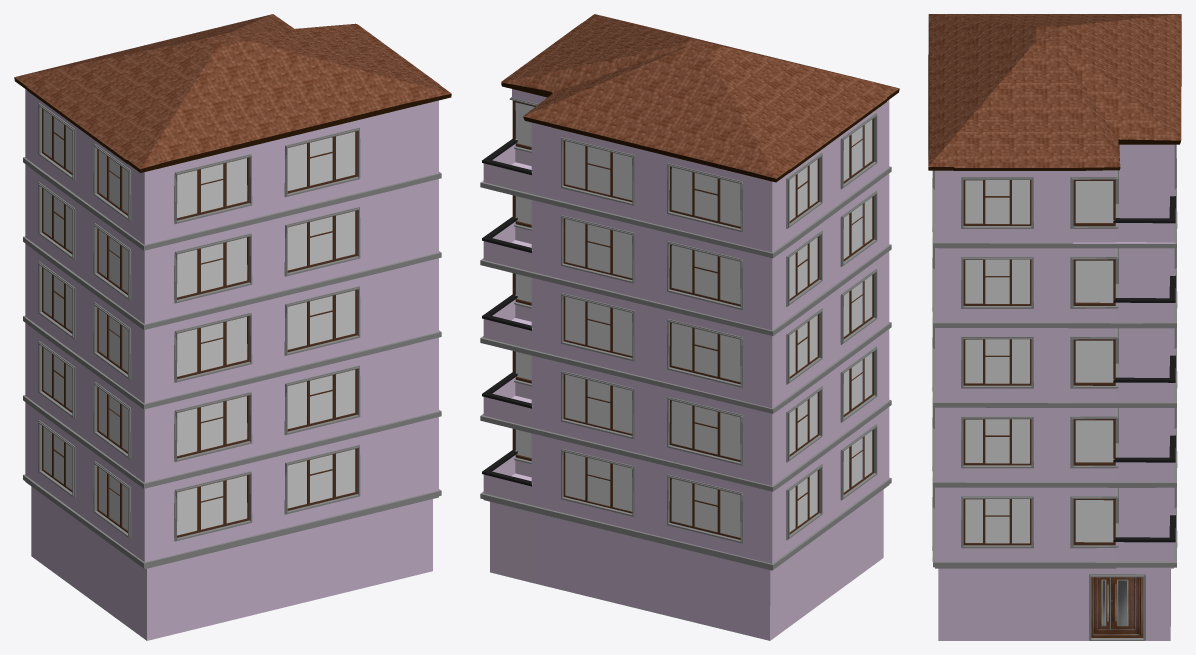
3 renders of one model, left to right at view 1: azimuth 30°, elevation 25°; view 2: azimuth 150°, elevation 25°; view 3: azimuth 270°, elevation 25°, orthographic. The views are drawn at different scales.
Visible parts, largest first — view 1: Apartment 1; view 2: Apartment 1; view 3: Apartment 1.
Part boxes in pixels (bbox=[...]): Apartment 1: bbox=[14, 14, 451, 640]; Apartment 1: bbox=[480, 14, 899, 640]; Apartment 1: bbox=[928, 14, 1181, 640].
Bounding box in the file's own units: 3.56 × 5.75 × 2.49.
9 materials, 2 textured.
